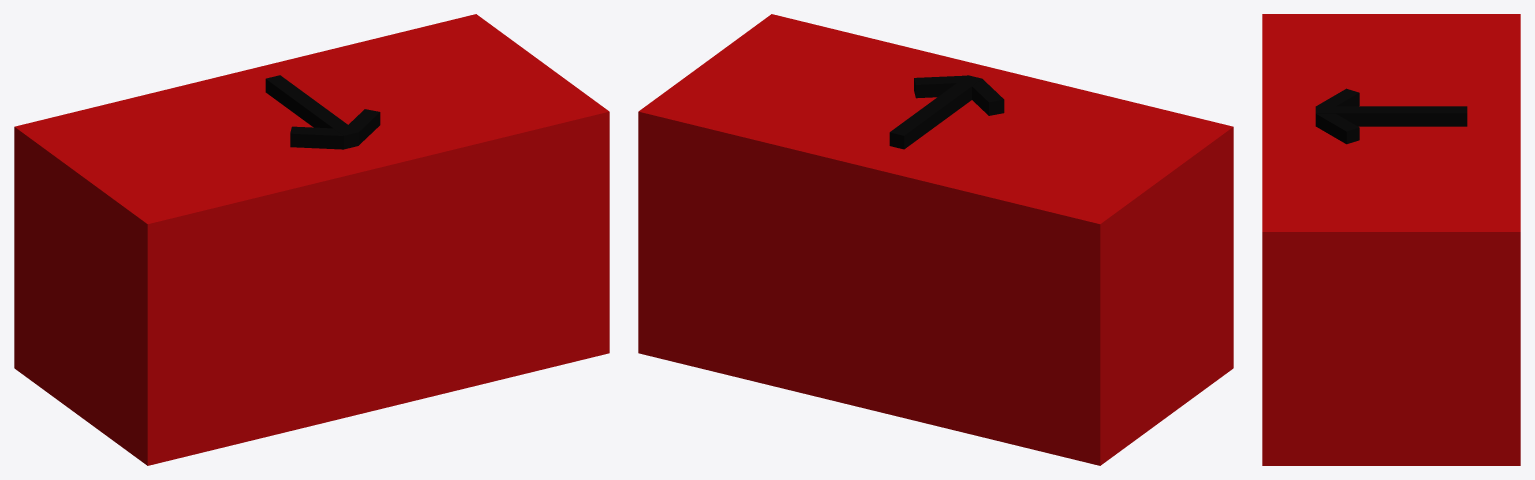
The model's file is red.fbx.
3 views of the same model, side by side, from view 1: azimuth 30°, elevation 25°; view 2: azimuth 150°, elevation 25°; view 3: azimuth 270°, elevation 25° (orthographic). The views are drawn at different scales.
Visible parts, largest first — view 1: Cube, Cube.001; view 2: Cube, Cube.001; view 3: Cube, Cube.001.
Boxes of the visible parts, left/top/right/bottom form: Cube: left=14, top=14, right=609, bottom=465; Cube.001: left=265, top=75, right=380, bottom=149; Cube: left=638, top=14, right=1233, bottom=465; Cube.001: left=889, top=75, right=1004, bottom=149; Cube: left=1262, top=14, right=1520, bottom=465; Cube.001: left=1315, top=88, right=1467, bottom=144.
Size of the model in its own units: 400 by 211 by 200.
